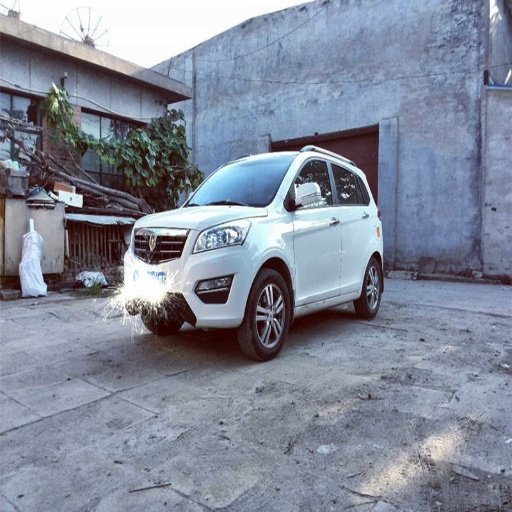front_bumper: (124, 221, 258, 327)
front_glass: (186, 158, 290, 206)
front_left_door: (290, 153, 340, 301)
